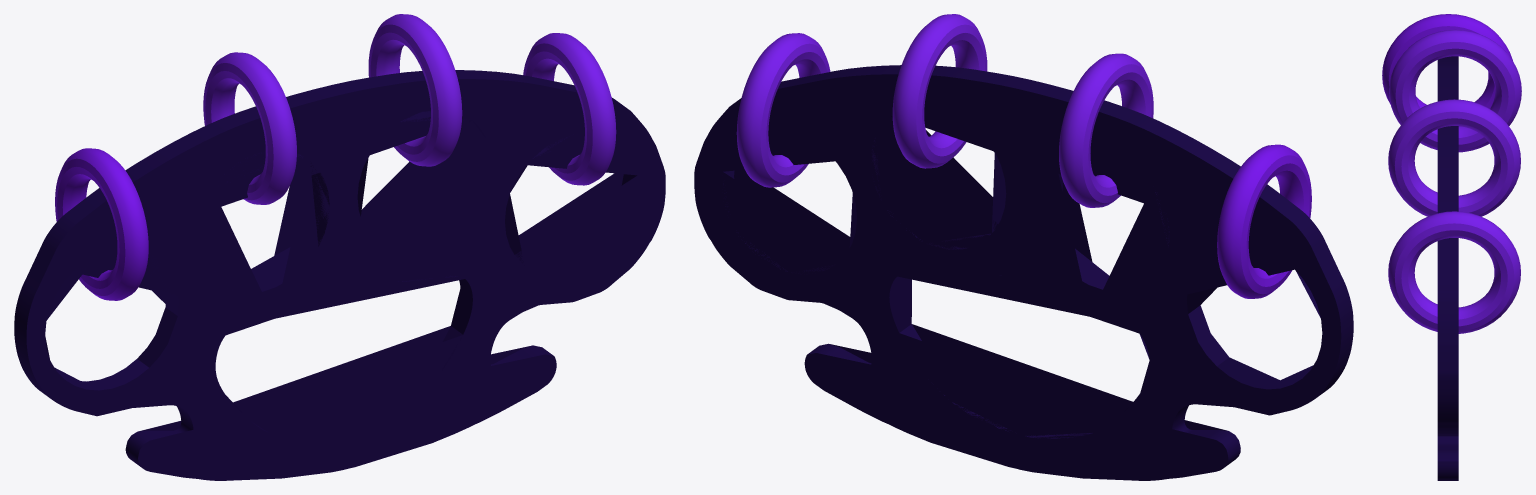
Rendered from ObscuridadModelo.fbx.
3 views of the same model, side by side, from view 1: azimuth 30°, elevation 25°; view 2: azimuth 150°, elevation 25°; view 3: azimuth 270°, elevation 25° (orthographic). The views are drawn at different scales.
Parts seen in each view (by area): view 1: Cube, Torus, Torus.002, Torus.001, Torus.003; view 2: Cube, Torus.002, Torus, Torus.001, Torus.003; view 3: Cube, Torus.003, Torus.002, Torus.001, Torus.
Part boxes in pixels (box(x1,y1,x2,y2)): Cube: box(14, 70, 665, 480); Torus: box(55, 148, 148, 300); Torus.002: box(368, 14, 462, 166); Torus.001: box(203, 52, 296, 204); Torus.003: box(523, 33, 616, 185); Cube: box(694, 65, 1353, 480); Torus.002: box(892, 14, 987, 168); Torus: box(1217, 144, 1311, 298); Torus.001: box(1059, 53, 1153, 207); Torus.003: box(736, 33, 830, 187); Cube: box(1437, 56, 1458, 480); Torus.003: box(1388, 211, 1520, 333); Torus.002: box(1388, 99, 1520, 216); Torus.001: box(1389, 29, 1521, 152); Torus: box(1382, 14, 1512, 108).
Bounding box in the file's own units: 1181 × 750 × 263.
